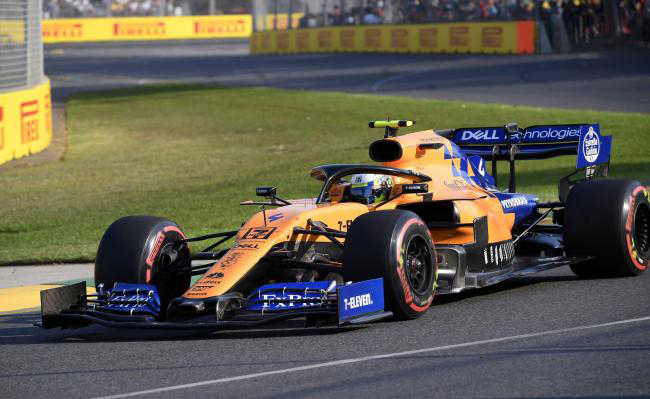F1 Car: (31, 114, 650, 343)
